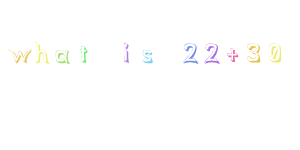+: (223, 45, 242, 64)
0: (266, 39, 288, 64)
2: (180, 38, 201, 67), (201, 40, 223, 67)
3: (244, 39, 264, 65)
a: (54, 45, 72, 67)
h: (34, 42, 51, 66)
i: (114, 39, 138, 69)
s: (139, 44, 157, 68)
t: (77, 44, 92, 65)
w: (4, 44, 31, 67)
